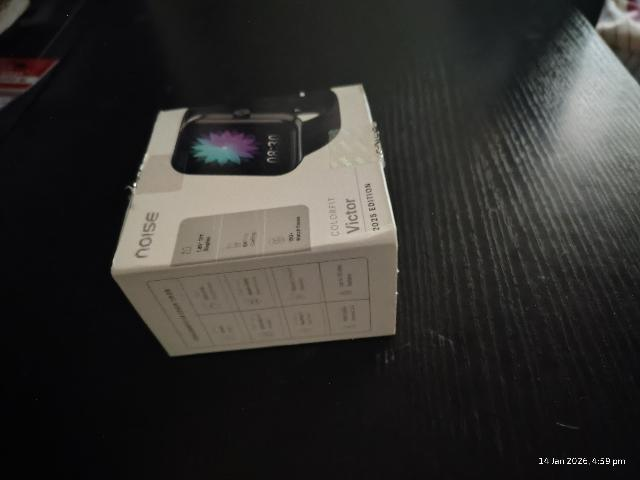noise victor smartwatch: (130, 83, 368, 340)
